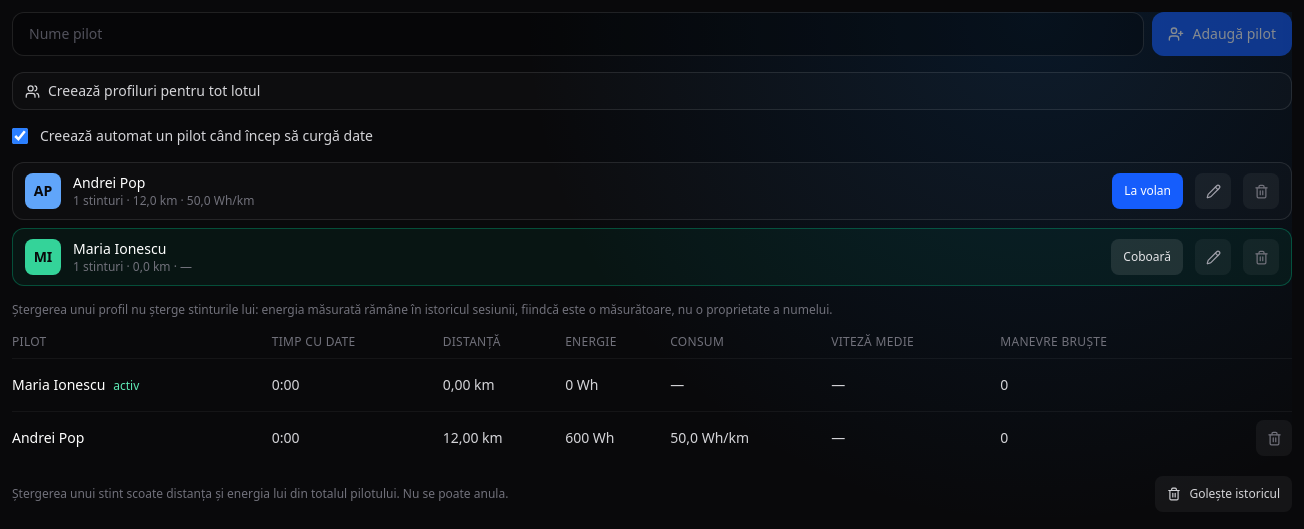
Test: DriverPanel — ștergerea stinturilor › se poate renunța la ștergere
Click the button named "Șterge stintul": (1274, 438) [1256,420,1292,456]
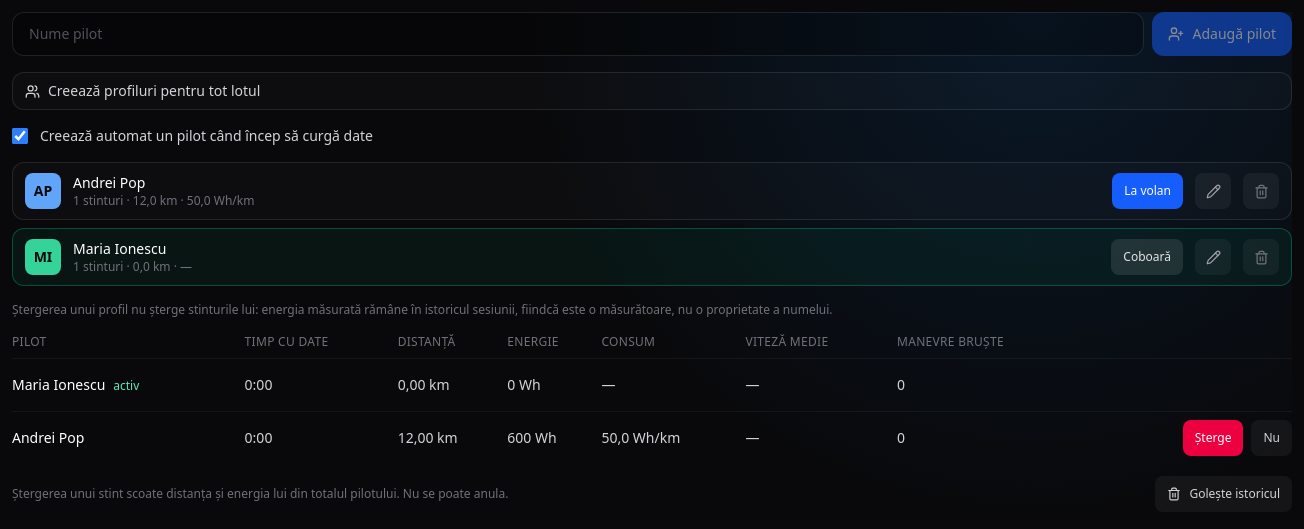
Click the button "Nu": (1272, 438) [1252,420,1292,456]
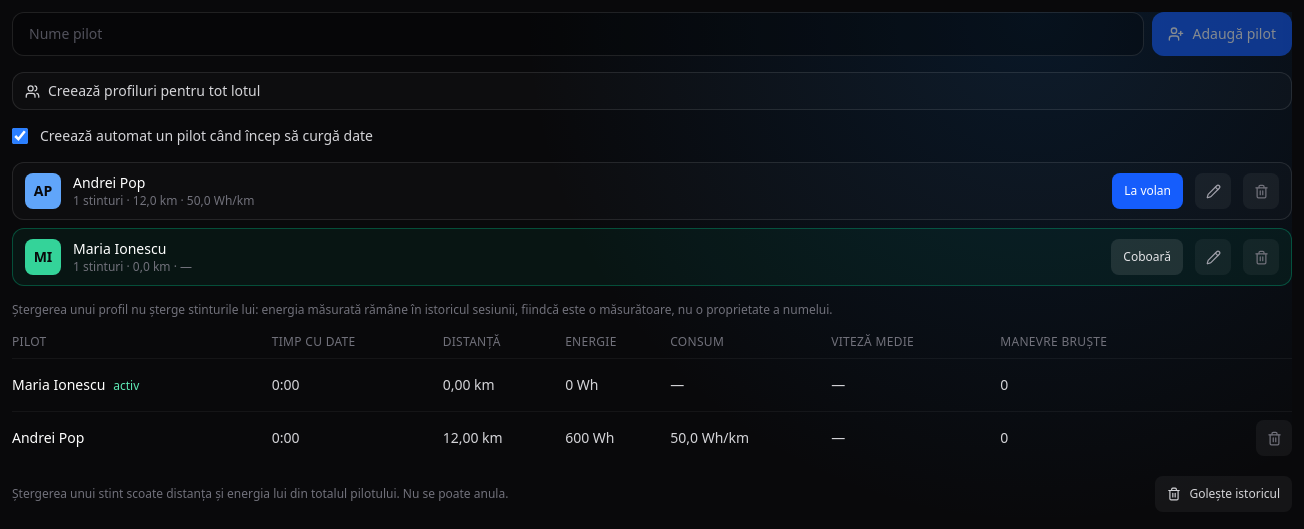
Check: the button named "Șterge stintul" is shown, box [1256,420,1292,456]
